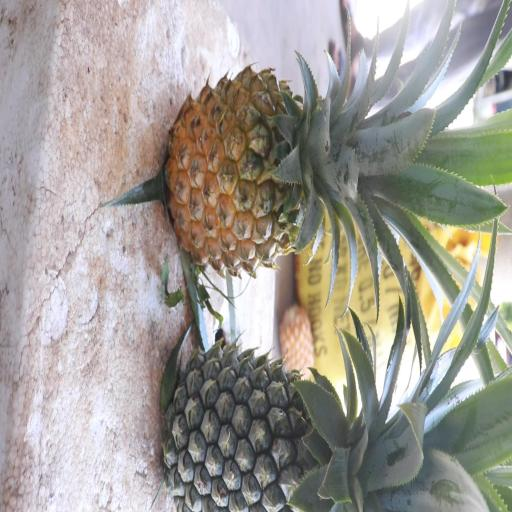Pineapple - v8 v1: (164, 59, 456, 307)
